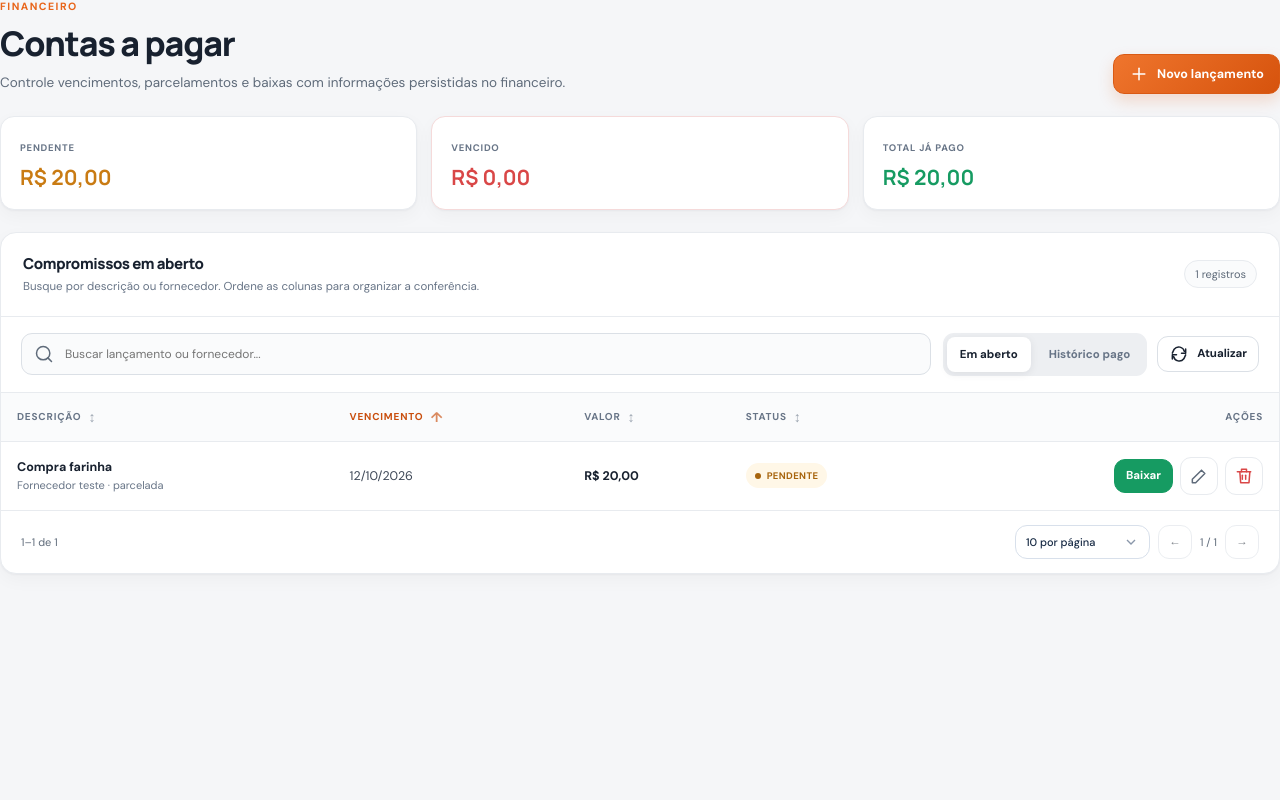
exclusão de parcelamento preserva parcelas pagas no histórico
This screenshot has width=1280, height=800.
Check: the text "Compra farinha" is shown, box [17,459,112,475]
What coordinates should you click on to do the following:
click the button named "Excluir Compra farinha"
I would click on:
 (1244, 476)
Its box is [1225,457,1263,495].
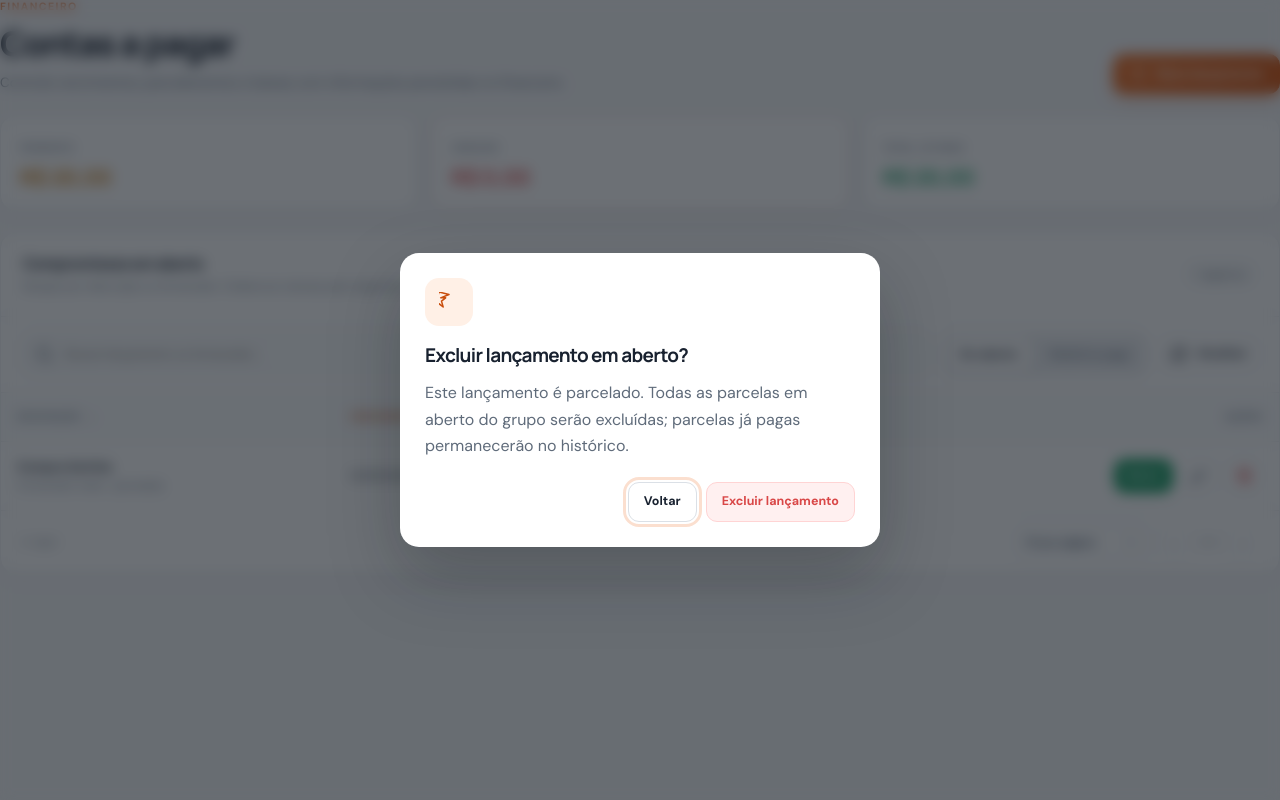
Check: the dialog shows "parcelas já pagas permanecerão", box [425,382,807,456]
What coordinates should you click on to do the following:
click the button "Excluir lançamento"
I would click on:
 (780, 502)
Its box is [706,482,855,522].
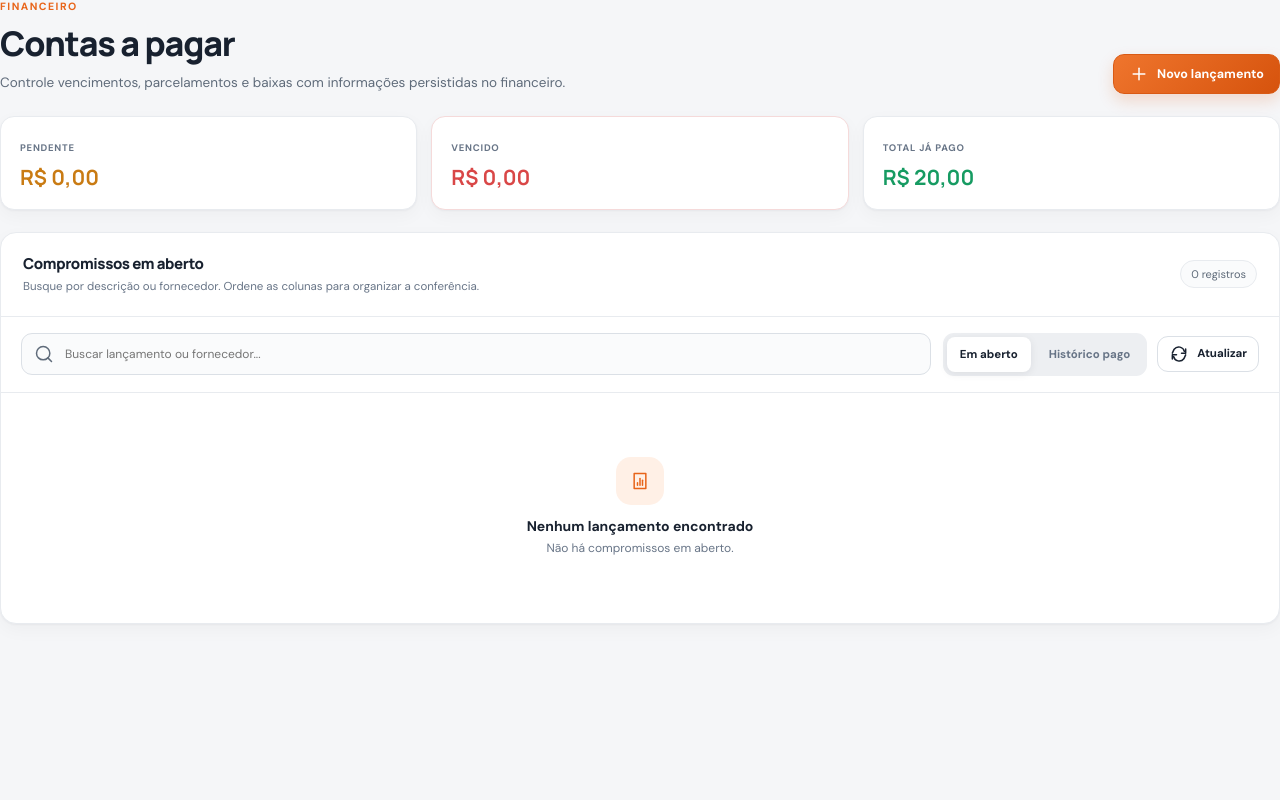
Check: the dialog is gone
What coordinates should you click on to do the following:
click the button "Histórico pago"
I would click on:
 (1090, 354)
Its box is [1036,337,1143,372].
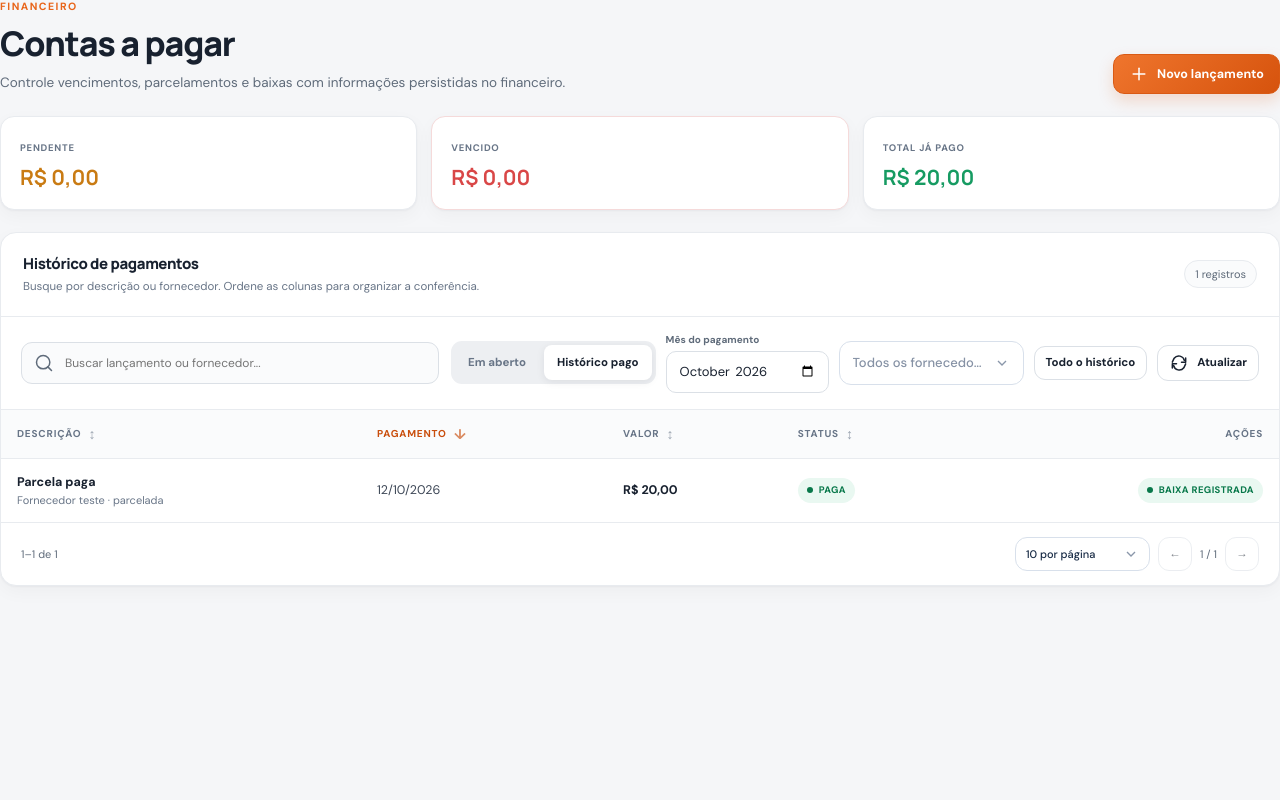
Check: the text "Parcela paga" is shown, box [17,474,96,490]
